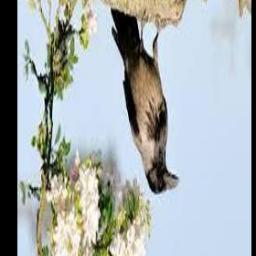Crow: (110, 14, 177, 195)
